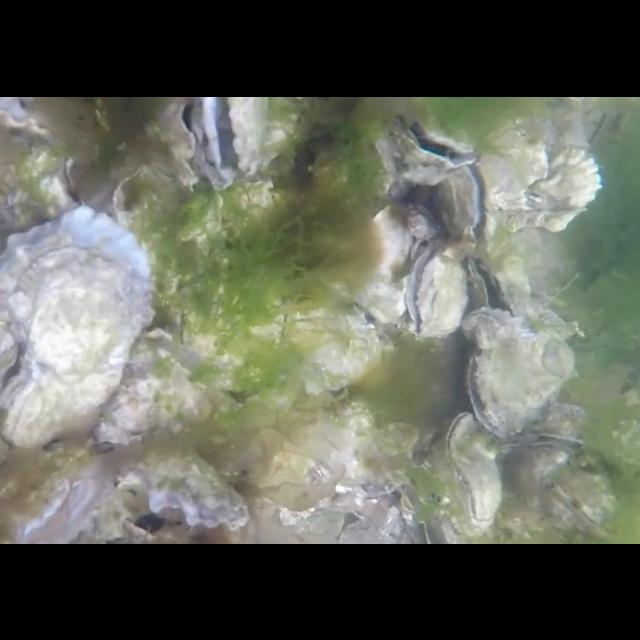Oyster-Closed: (0, 203, 152, 448), (90, 324, 230, 446), (354, 202, 428, 322), (477, 123, 549, 211), (532, 142, 602, 208), (546, 468, 616, 534), (522, 439, 574, 515), (524, 401, 592, 444)
Oyster-Open: (464, 326, 578, 444), (119, 443, 251, 529), (0, 447, 106, 543), (386, 106, 476, 186), (442, 410, 504, 526), (404, 237, 468, 337), (438, 160, 497, 262), (206, 96, 264, 182), (158, 96, 208, 190), (466, 253, 518, 320), (462, 304, 528, 348), (0, 106, 56, 152), (310, 374, 350, 404)
